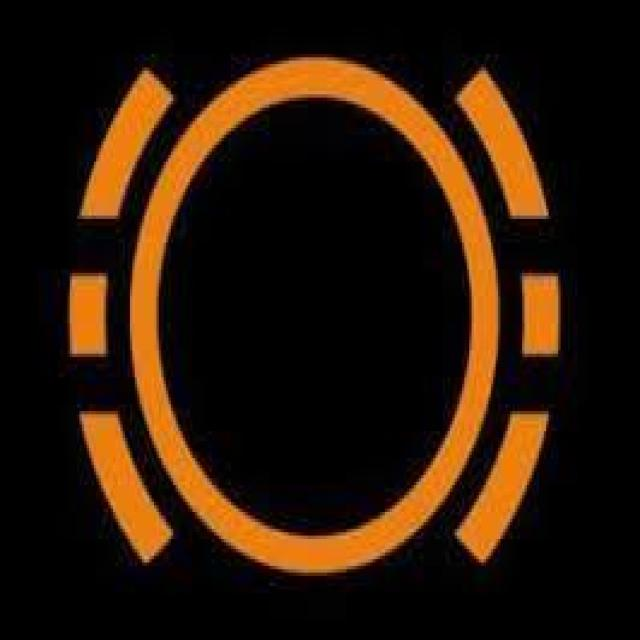kontrolka: (41, 60, 584, 589)
